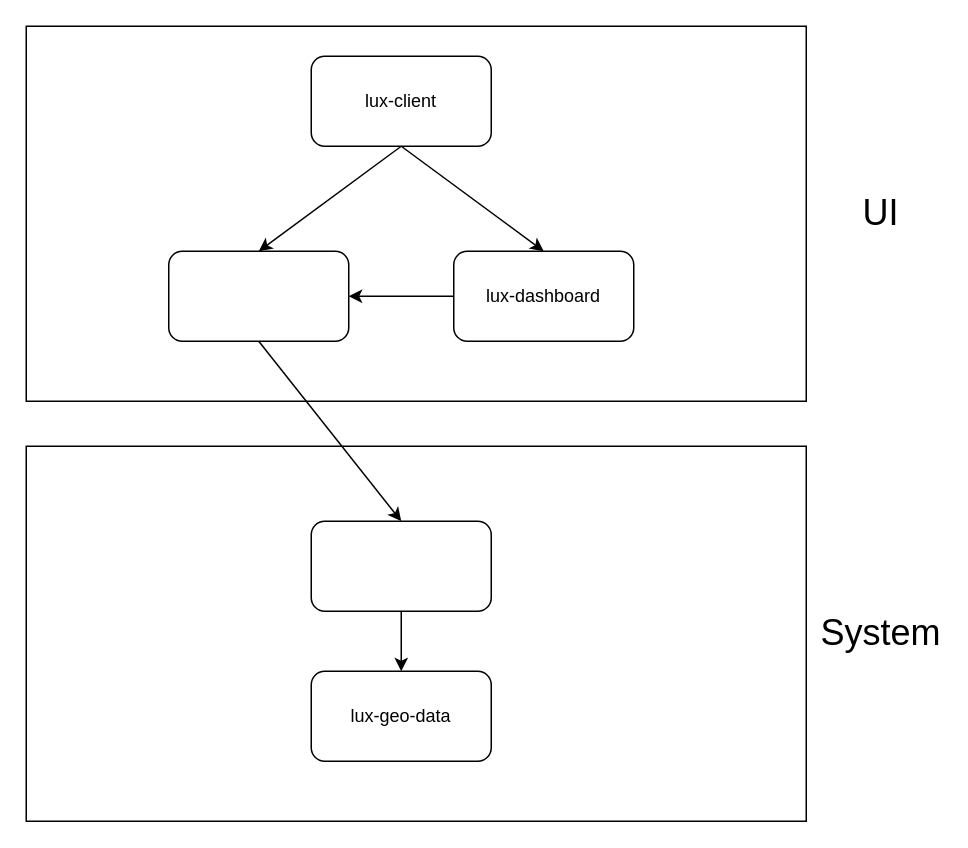
This 968x848 diagram has some shape labels left out. The shapes that lost their labels are listed below. From the top down, each one's centre as x and y in pixels, then its label:
the point at 258,295: lux-js-sdk
the point at 400,565: lux-core
